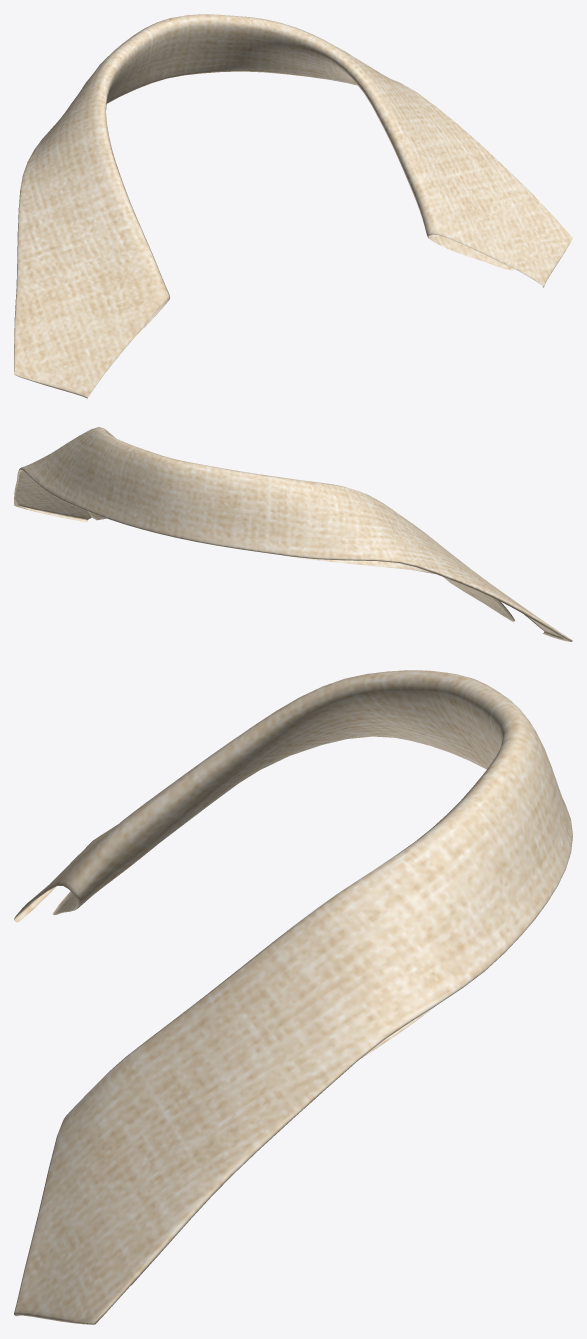
File: peak_collar_wide.glb
3 renders of one model, top to bottom at view 1: azimuth 30°, elevation 25°; view 2: azimuth 150°, elevation 25°; view 3: azimuth 270°, elevation 25°, orthographic. The views are drawn at different scales.
Visible parts, largest first — view 1: peak_collar_wide1; view 2: peak_collar_wide1; view 3: peak_collar_wide1.
Part boxes in pixels (left/top/right/bottom): peak_collar_wide1: left=14, top=14, right=572, bottom=398; peak_collar_wide1: left=14, top=427, right=572, bottom=641; peak_collar_wide1: left=14, top=670, right=572, bottom=1324.
Bounding box in the file's own units: 0.0421 × 0.016 × 0.0206.
Materials: 1 (1 with a texture image).
